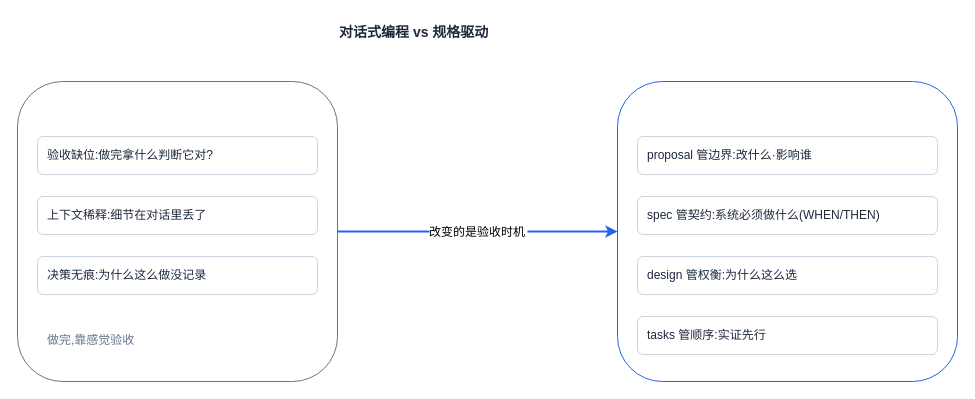
The diagram is 975 pixels wide and 399 high, and some of its shapes have lost their labels. The shapes that lost their labels are listed below. From the top down, each one's box as (x1, y1, x2, y2) in pixels, then its label:
(16, 80, 338, 382): 对话式编程
(616, 80, 958, 382): 规格驱动
